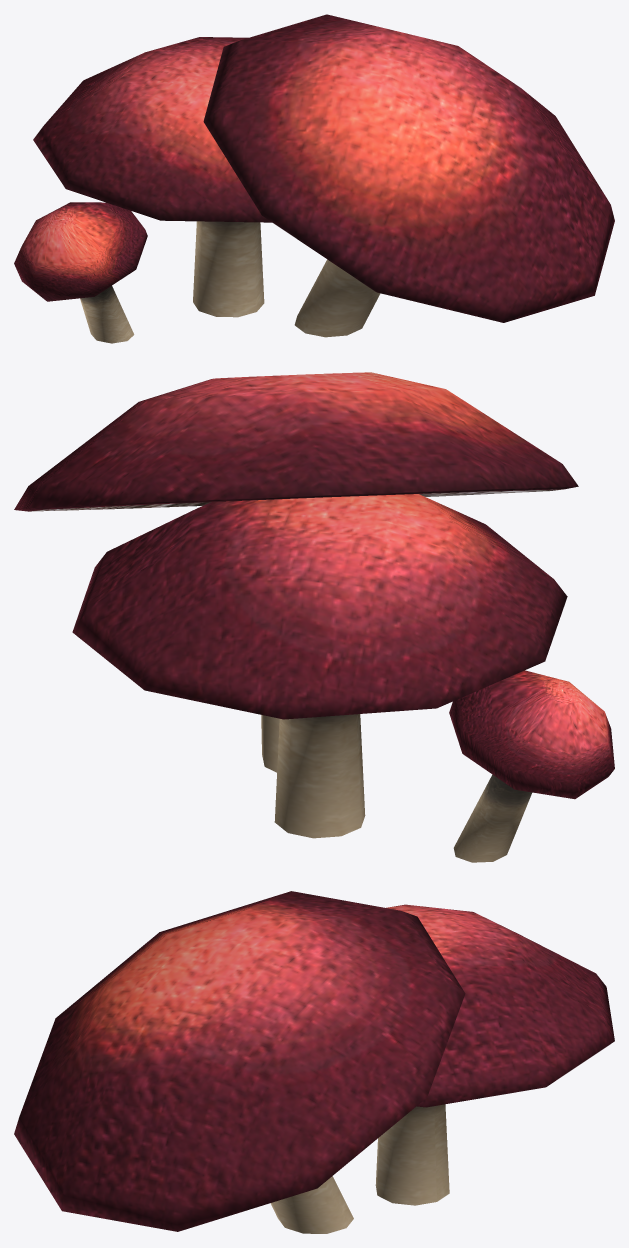
The model's file is mushroom 6.fbx.
3 views of the same model, one above another, from view 1: azimuth 30°, elevation 25°; view 2: azimuth 150°, elevation 25°; view 3: azimuth 270°, elevation 25° (orthographic). The views are drawn at different scales.
Parts seen in each view (by area): view 1: mushroom_6; view 2: mushroom_6; view 3: mushroom_6.
Boxes of the visible parts, x1,y1,x2,y2 form: mushroom_6: [14, 14, 614, 343]; mushroom_6: [14, 372, 614, 862]; mushroom_6: [14, 891, 614, 1233].
Size of the model in its own units: 0.9346 by 0.5044 by 0.92.
